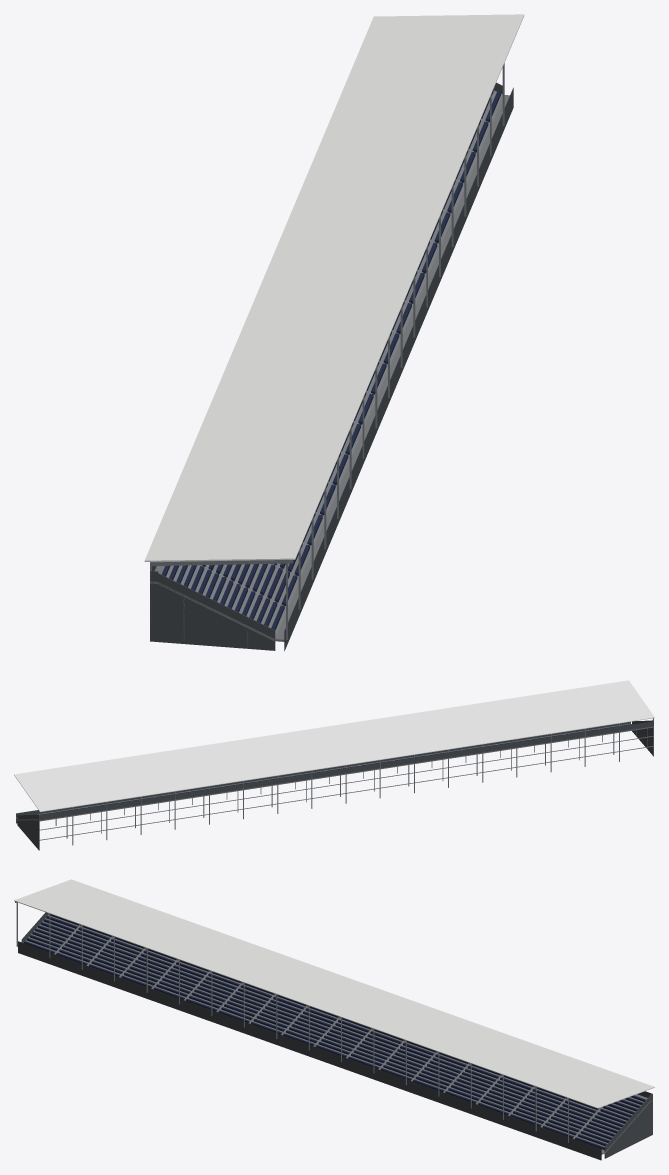
The model's file is sil_stand_abbey.glb.
3 views of the same model, one above another, from view 1: azimuth 30°, elevation 25°; view 2: azimuth 150°, elevation 25°; view 3: azimuth 270°, elevation 25° (orthographic). The views are drawn at different scales.
Visible parts, largest first — view 1: silverstone-abbey; view 2: silverstone-abbey; view 3: silverstone-abbey.
Boxes of the visible parts, left/top/right/bottom form: silverstone-abbey: left=144, top=14, right=524, bottom=651; silverstone-abbey: left=14, top=680, right=654, bottom=850; silverstone-abbey: left=14, top=879, right=654, bottom=1160.
Size of the model in its own units: 103 by 11.16 by 119.
